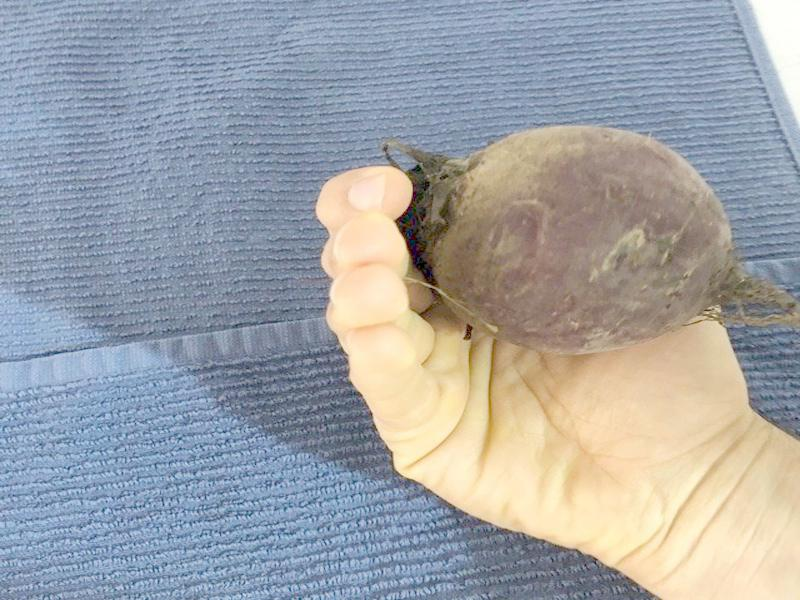Beet: (376, 127, 795, 355)
